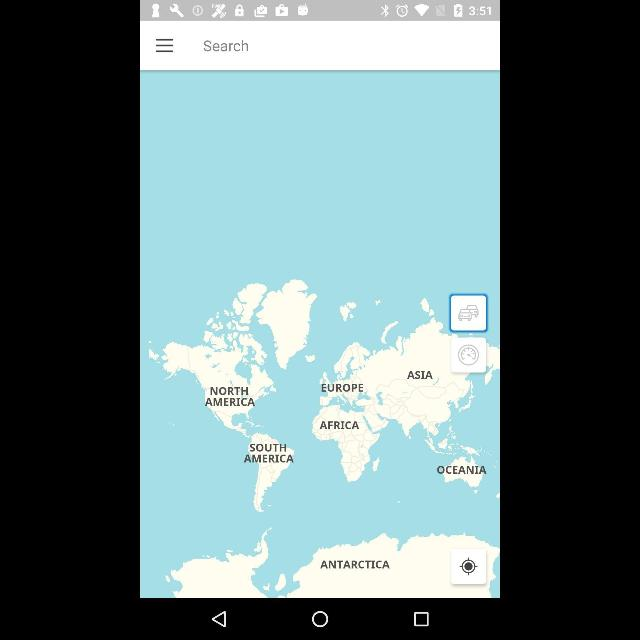icon: (460, 344, 478, 368), (460, 304, 480, 324), (155, 36, 175, 54), (460, 556, 478, 576), (312, 610, 328, 628), (413, 612, 429, 628), (212, 610, 226, 628)
map: (141, 72, 499, 598)
panel: (140, 599, 500, 639)
text: (202, 38, 250, 54)
toolbar: (140, 21, 500, 71)
uppertaskbar: (140, 1, 500, 22)
